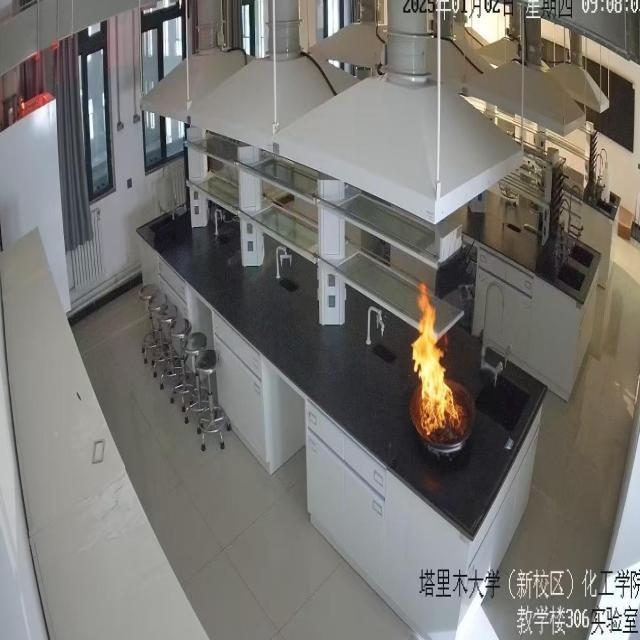smoke: (408, 282, 466, 440)
